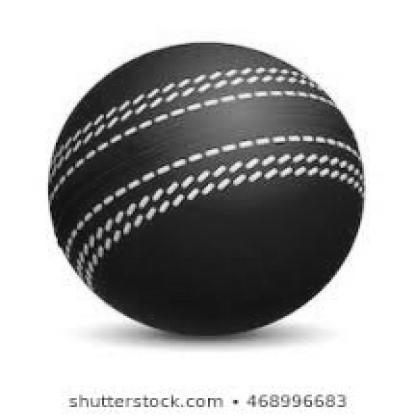bukan telur: (40, 37, 368, 337)
